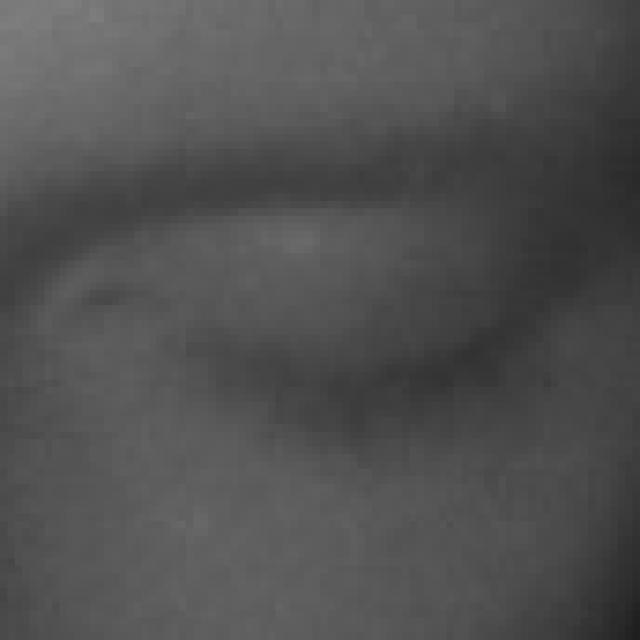Eyeclosed: (198, 200, 573, 558)
